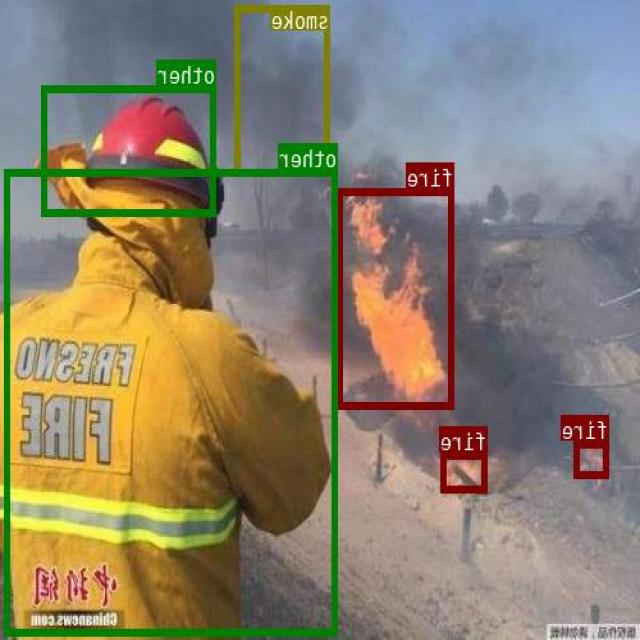fire: (338, 187, 455, 407), (442, 451, 488, 492), (575, 440, 610, 477)
other: (6, 167, 339, 634), (43, 84, 217, 216)
smoke: (236, 4, 331, 174)
